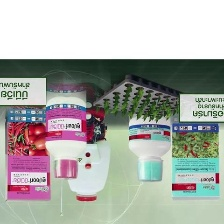carton: (2, 106, 54, 203), (170, 120, 221, 203)
insecticide: (43, 93, 88, 180), (126, 113, 173, 185)
